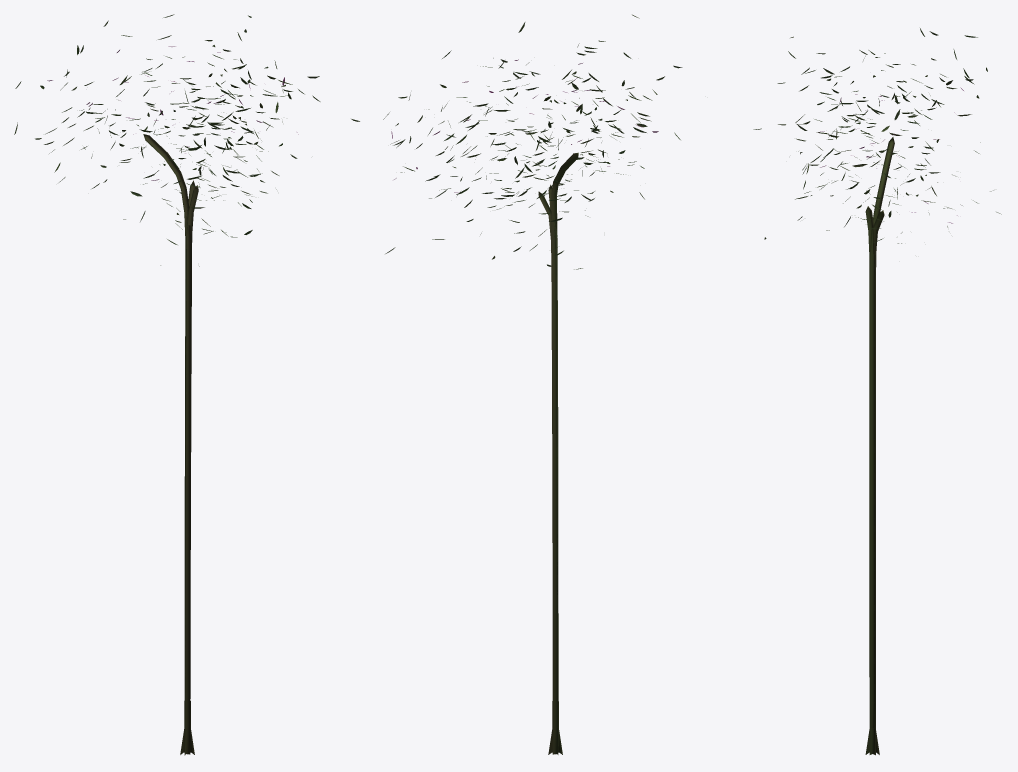
File: SM_Tree_garden_low_0.glb
3 renders of one model, left to right at view 1: azimuth 30°, elevation 25°; view 2: azimuth 150°, elevation 25°; view 3: azimuth 270°, elevation 25°, orthographic. The views are drawn at different scales.
Visible parts, largest first — view 1: SM_Tree_garden_low_0; view 2: SM_Tree_garden_low_0; view 3: SM_Tree_garden_low_0.
Part boxes in pixels (left/top/right/bottom): SM_Tree_garden_low_0: left=14, top=14, right=320, bottom=755; SM_Tree_garden_low_0: left=351, top=14, right=682, bottom=754; SM_Tree_garden_low_0: left=753, top=28, right=1001, bottom=755.
Size of the model in its own units: 0.6665 by 1.62 by 0.5368.
